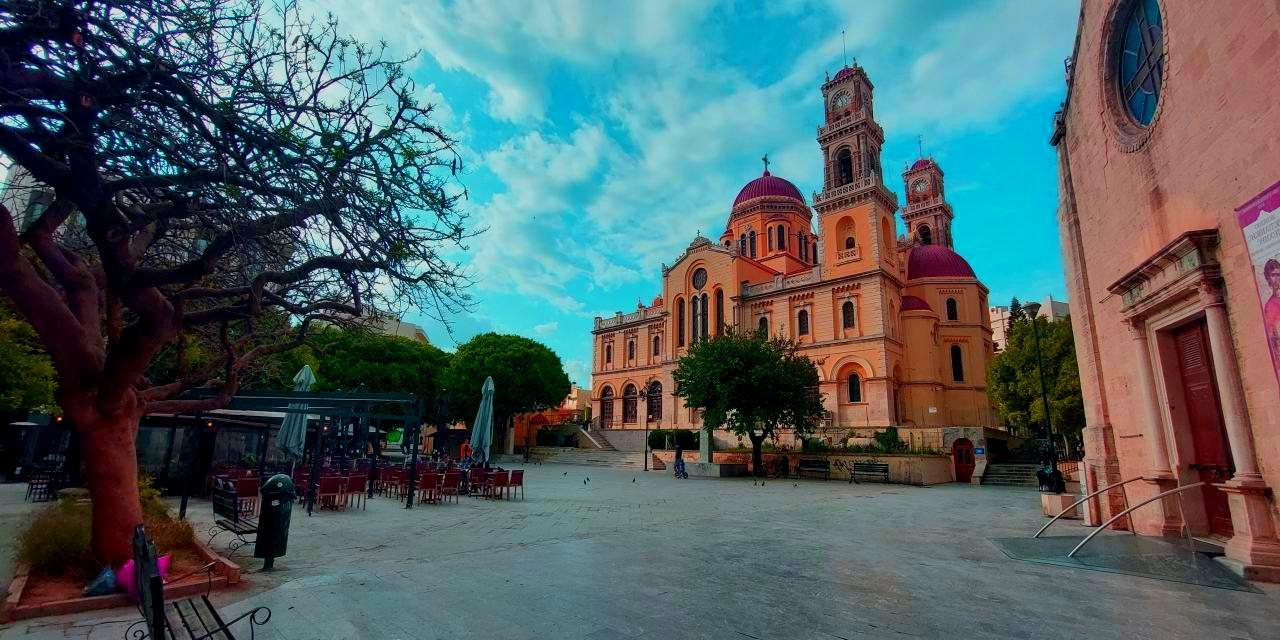Agios Minas: (589, 22, 1000, 480)
